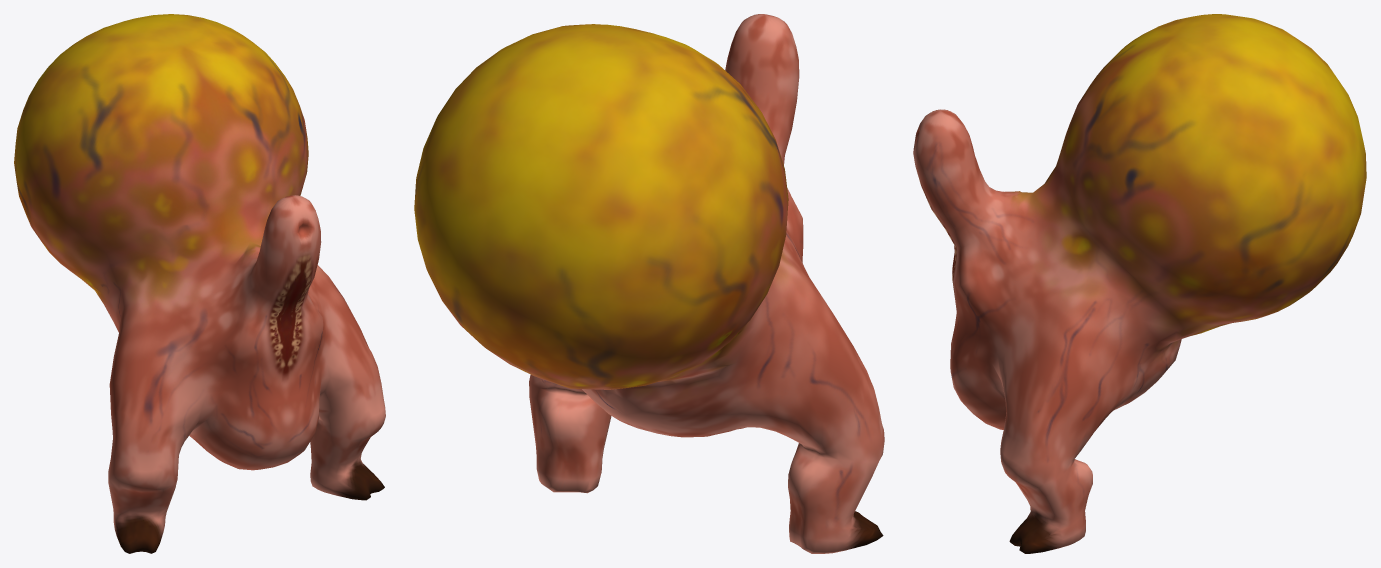
File: bacteria_low02.FBX
3 renders of one model, left to right at view 1: azimuth 30°, elevation 25°; view 2: azimuth 150°, elevation 25°; view 3: azimuth 270°, elevation 25°, orthographic. The views are drawn at different scales.
Parts seen in each view (by area): view 1: bacteria_low_003; view 2: bacteria_low_003; view 3: bacteria_low_003.
Boxes of the visible parts, <box> form: bacteria_low_003: <box>14,14,385,553</box>; bacteria_low_003: <box>414,14,884,553</box>; bacteria_low_003: <box>913,14,1366,553</box>.
Size of the model in its own units: 95.89 by 144 by 129.
1 material, 1 textured.
